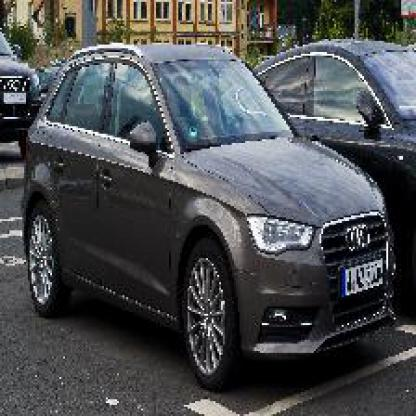not_emergency: (20, 43, 396, 364)
